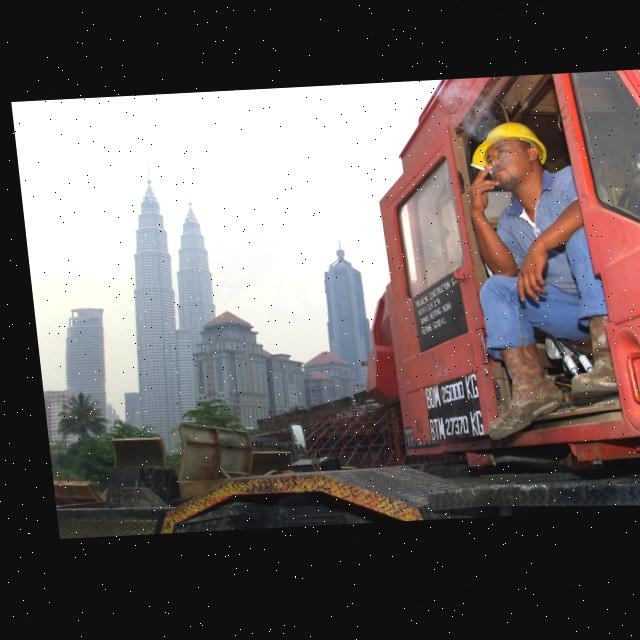cigarette: (466, 167, 487, 179)
